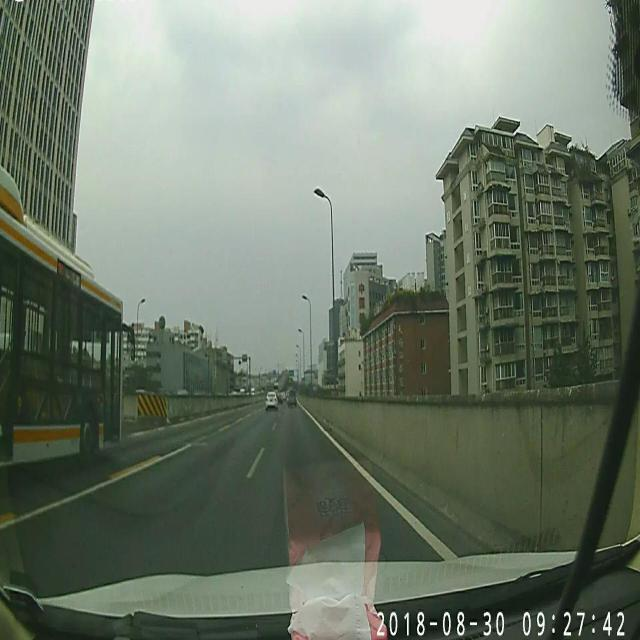car: (264, 391, 278, 408), (287, 392, 297, 407)
